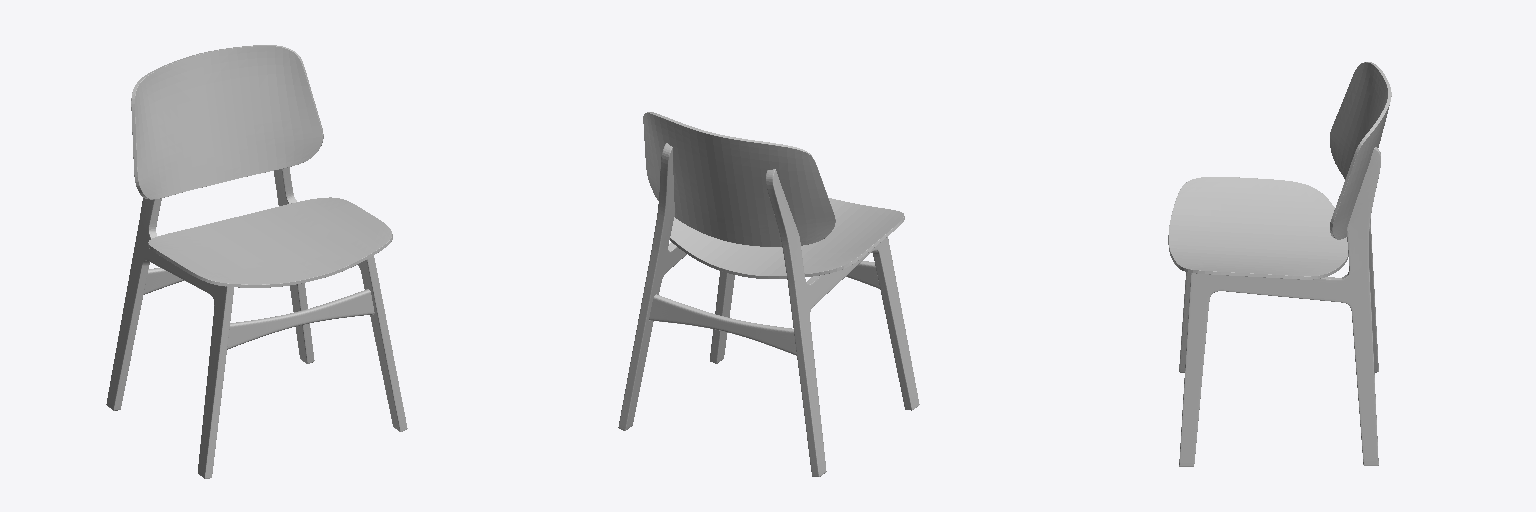
The model's file is chair_textured.obj.
3 views of the same model, side by side, from view 1: azimuth 30°, elevation 25°; view 2: azimuth 150°, elevation 25°; view 3: azimuth 270°, elevation 25° (orthographic).
Visible parts, largest first — view 1: back of seat, seat, chair leg, first str, first str.001; view 2: back of seat, chair leg, seat, first str.001, first str; view 3: seat, chair leg, back of seat.
Part boxes in pixels (bbox=[...]): back of seat: bbox=[131, 45, 323, 199]; seat: bbox=[148, 197, 392, 287]; chair leg: bbox=[106, 167, 407, 478]; first str: bbox=[227, 289, 374, 349]; first str.001: bbox=[144, 268, 183, 294]; back of seat: bbox=[643, 112, 835, 246]; chair leg: bbox=[618, 143, 919, 476]; seat: bbox=[670, 198, 904, 278]; first str.001: bbox=[649, 294, 796, 355]; first str: bbox=[846, 261, 879, 288]; seat: bbox=[1168, 177, 1348, 279]; chair leg: bbox=[1179, 147, 1380, 466]; back of seat: bbox=[1330, 62, 1391, 239].
Bounding box in the file's own units: 2.66 × 4.07 × 2.53.